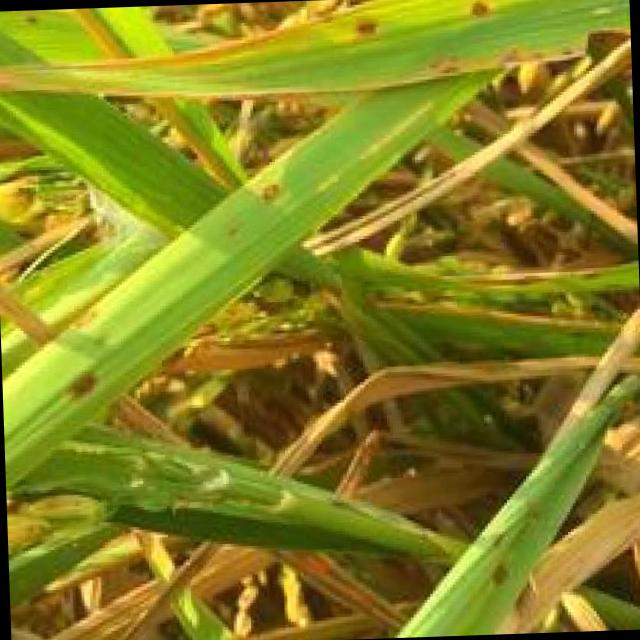Rice_Brownspot: (50, 362, 103, 401), (343, 6, 387, 39), (480, 550, 506, 584), (247, 176, 284, 197), (457, 0, 495, 18)
